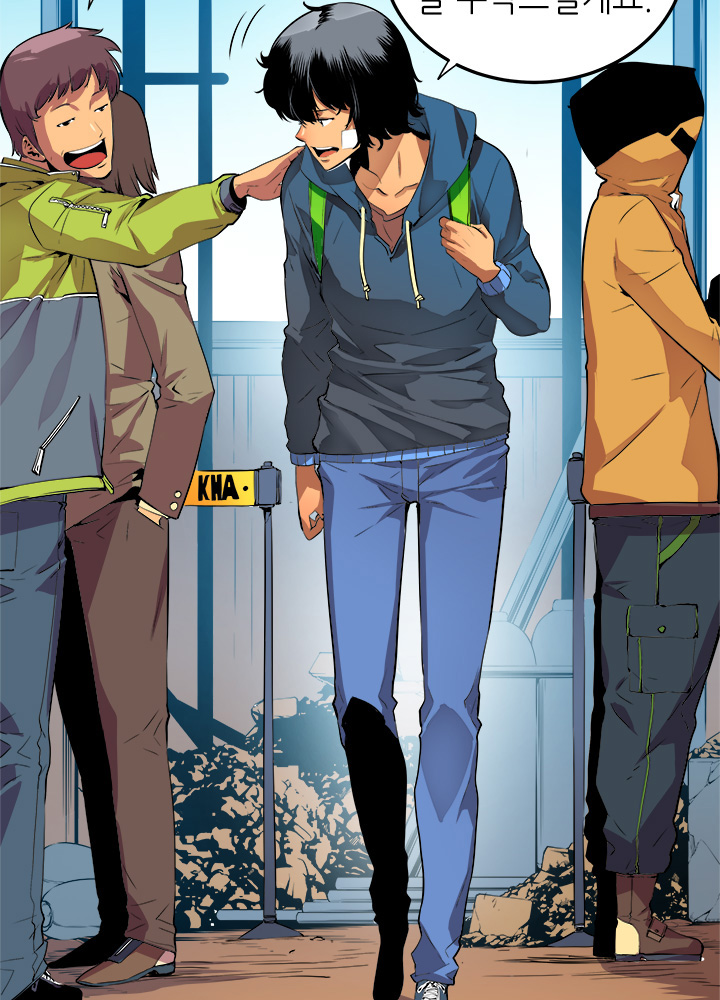dialog box: (357, 1, 690, 101)
text: (408, 1, 668, 31)
